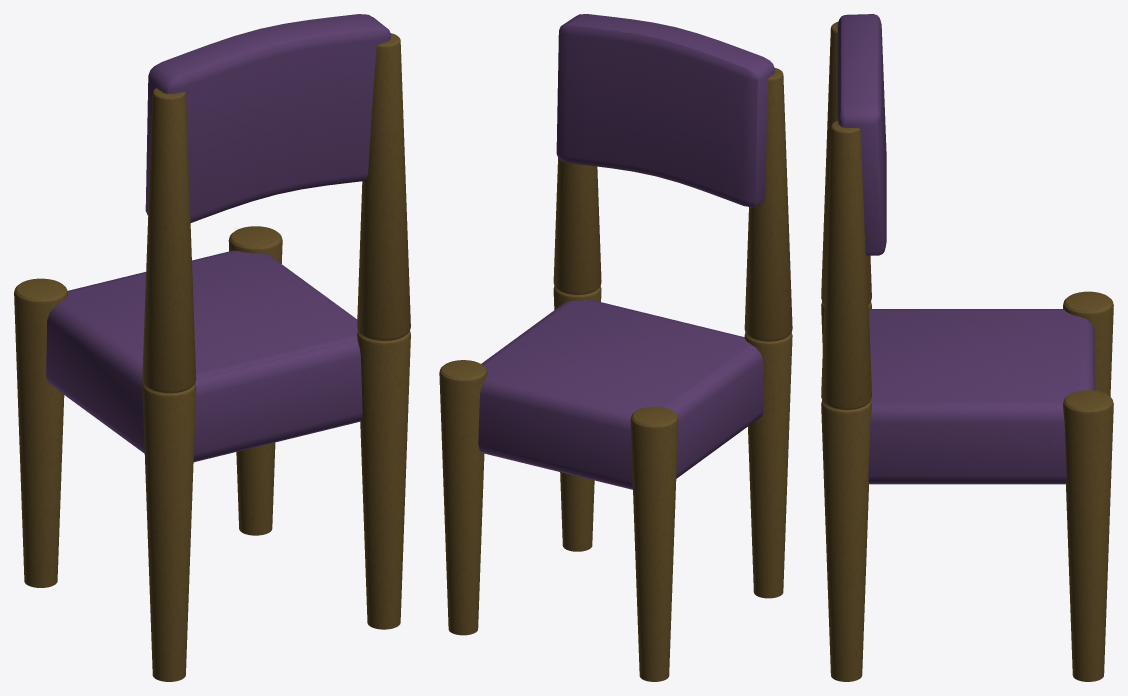
Rendered from KitchenChair.fbx.
3 views of the same model, side by side, from view 1: azimuth 30°, elevation 25°; view 2: azimuth 150°, elevation 25°; view 3: azimuth 270°, elevation 25° (orthographic). The views are drawn at different scales.
Visible parts, largest first — view 1: KitchenChair_Baked; view 2: KitchenChair_Baked; view 3: KitchenChair_Baked.
Part boxes in pixels (left/top/right/bottom): KitchenChair_Baked: left=14, top=14, right=410, bottom=681; KitchenChair_Baked: left=439, top=14, right=792, bottom=681; KitchenChair_Baked: left=821, top=14, right=1113, bottom=681.
Size of the model in its own units: 49.99 by 111 by 51.43.
Materials: 1 (1 with a texture image).
